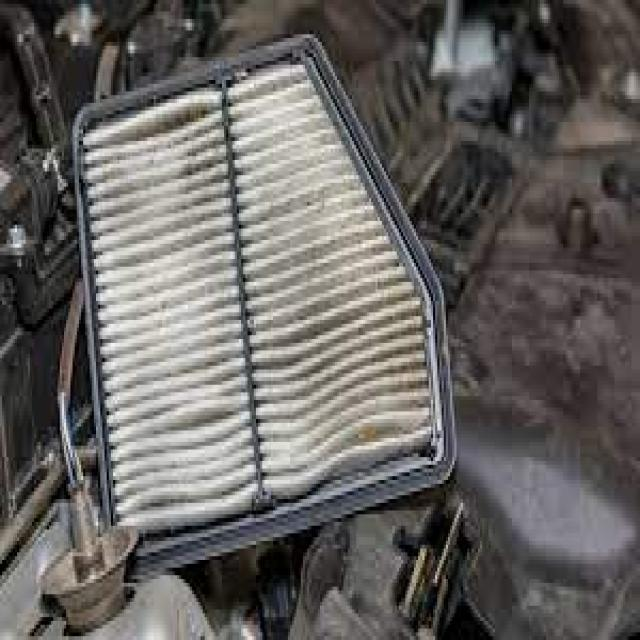air_filter: (74, 112, 448, 498)
